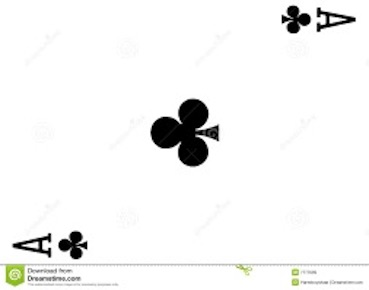AceOfClubs: (1, 1, 369, 265)
